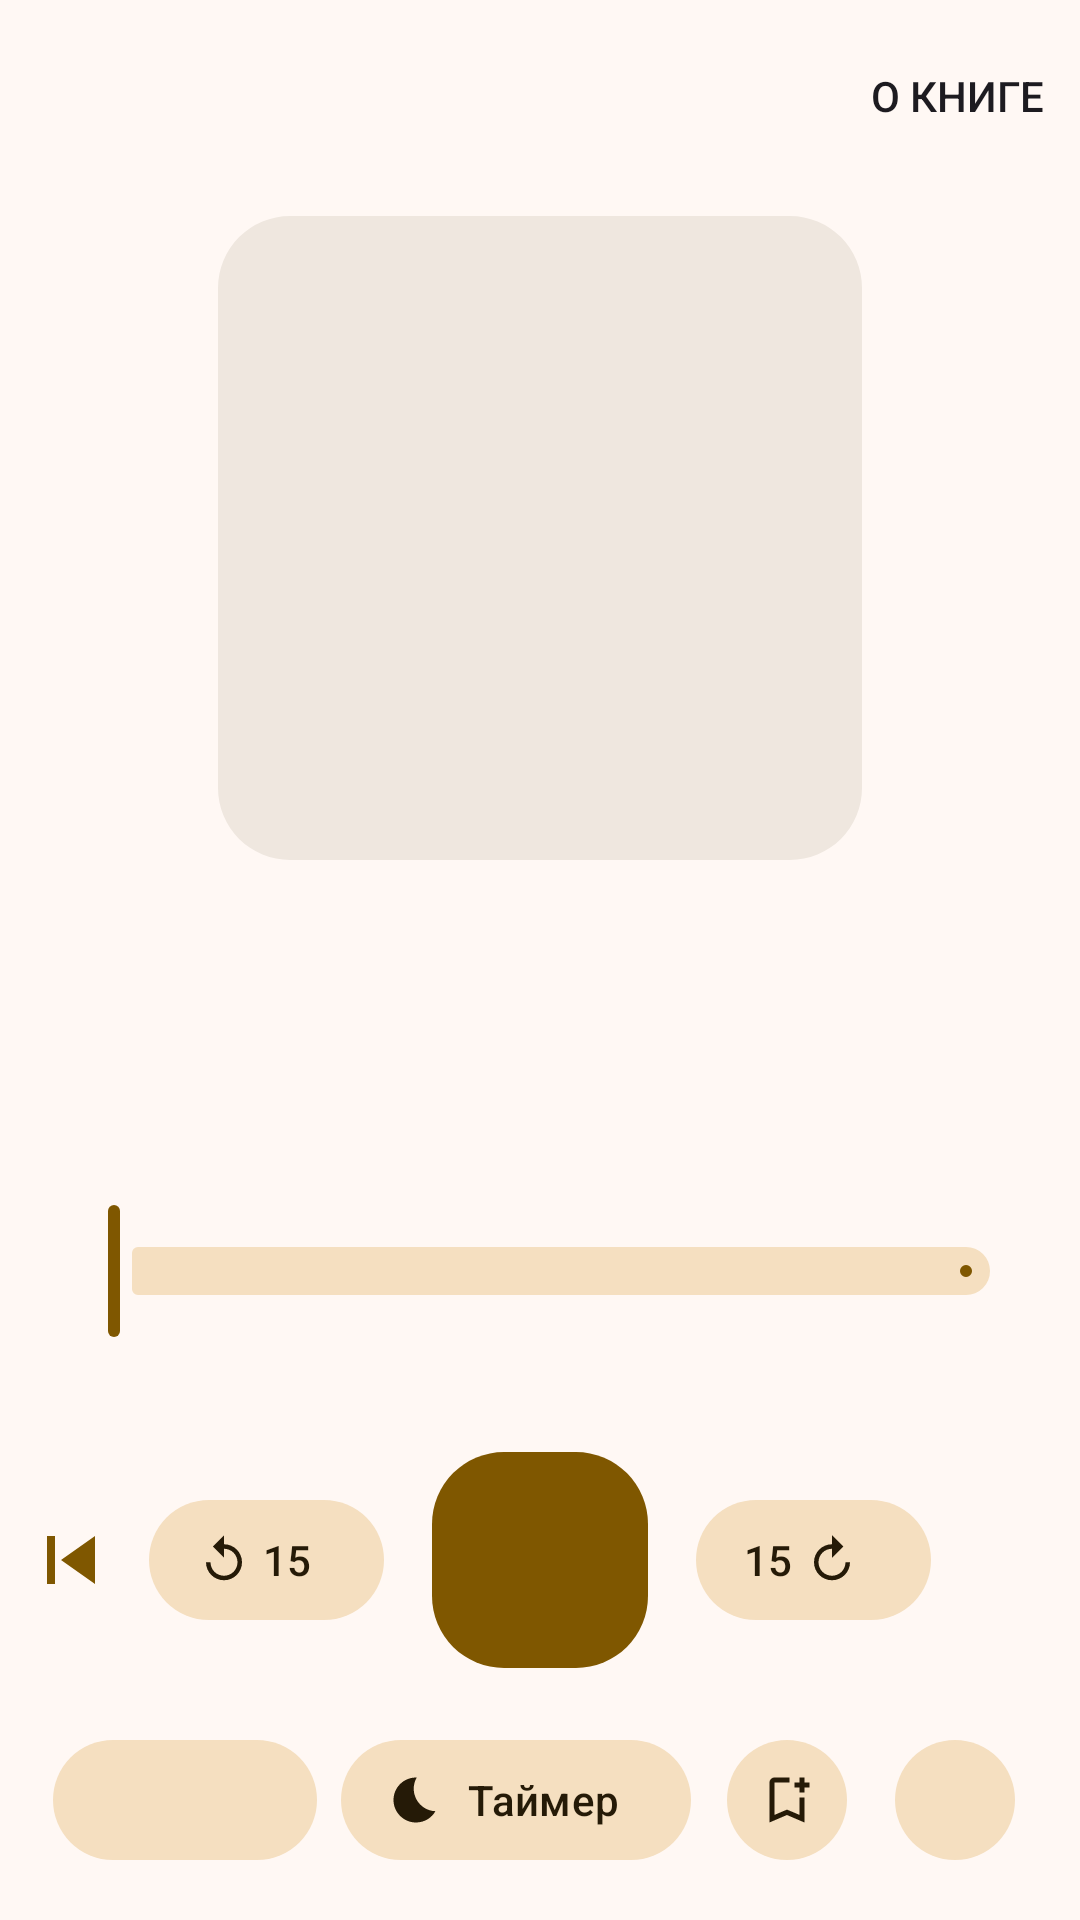

Named icons in this screenshot (1080 x 1920) and their bounding boxes, (x1, y1, x2, y2):
Добавить закладку: (727, 1740, 847, 1860)
